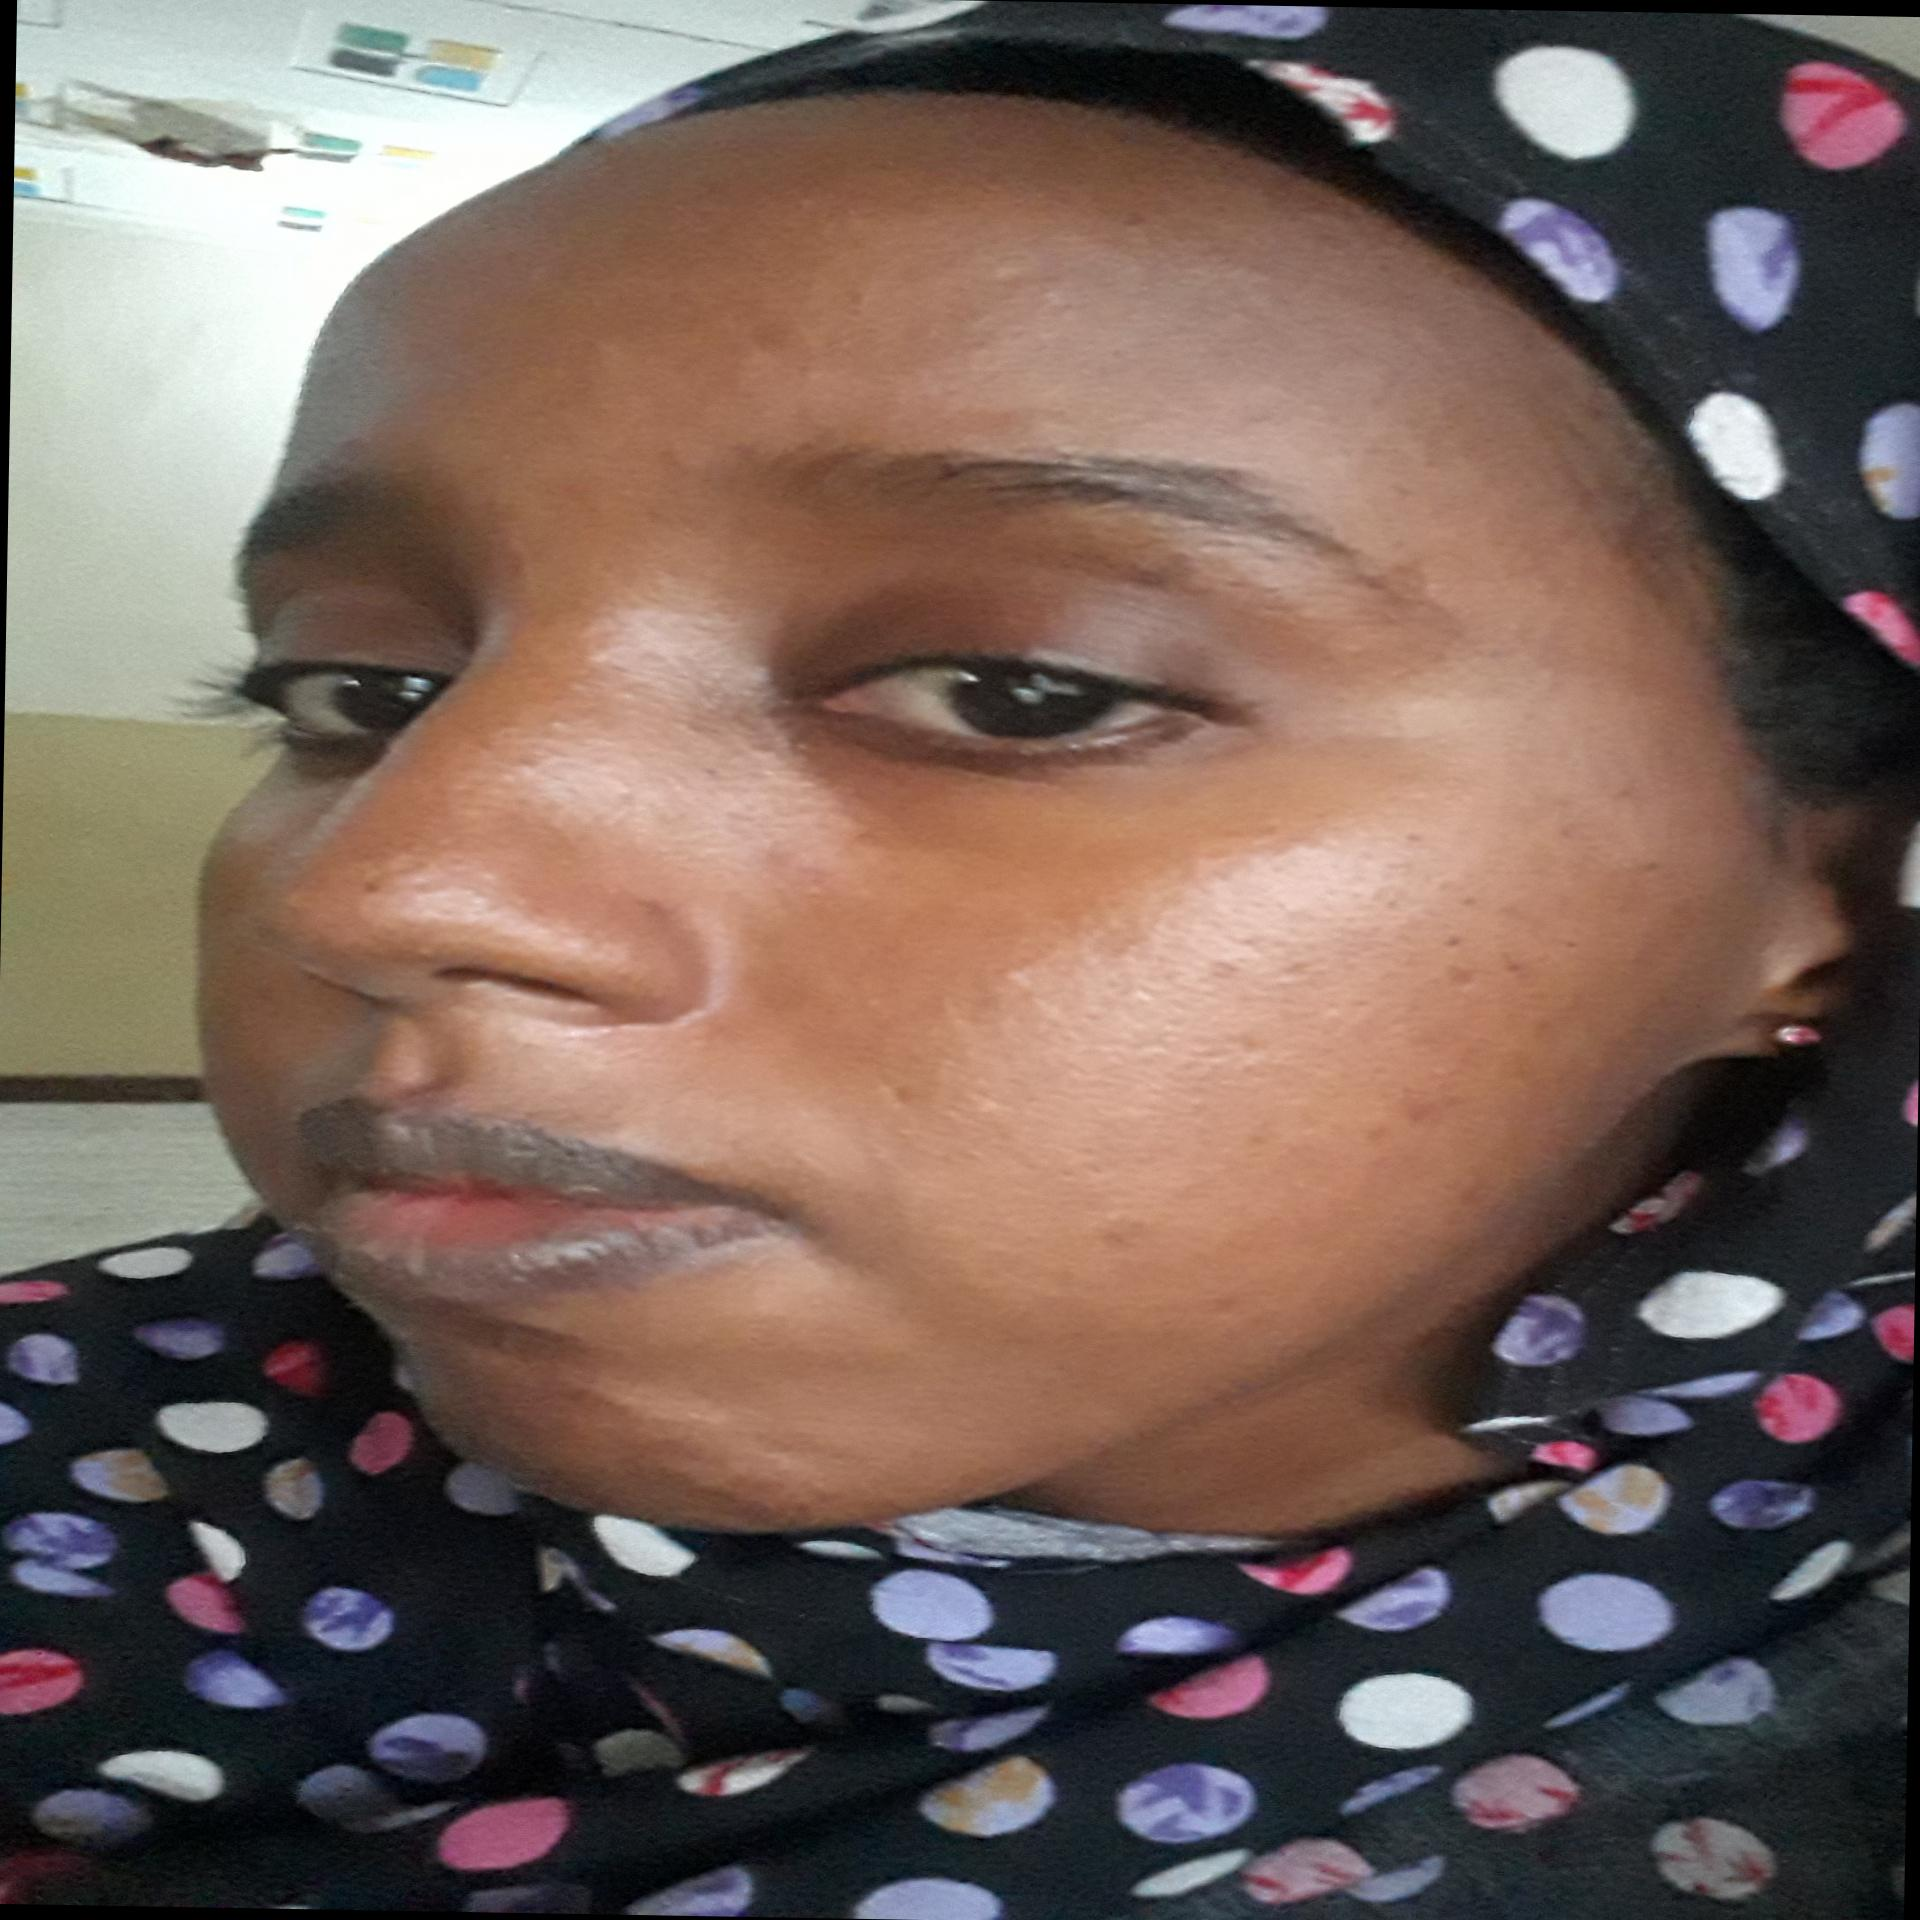Acne: (709, 322, 809, 382), (1357, 1094, 1452, 1146), (737, 832, 816, 881), (545, 332, 624, 371), (629, 443, 705, 482), (976, 253, 1041, 287), (633, 886, 679, 932), (1445, 956, 1491, 1000), (1090, 1217, 1139, 1254), (325, 425, 371, 455), (345, 876, 387, 907), (566, 1389, 614, 1412)
Englarged Pores: (1006, 891, 1342, 1094)
